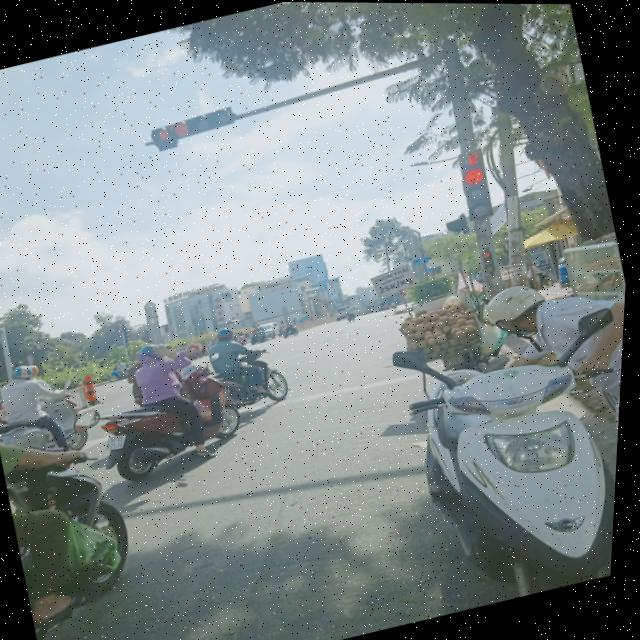Red: (163, 100, 244, 142), (456, 165, 501, 222)
